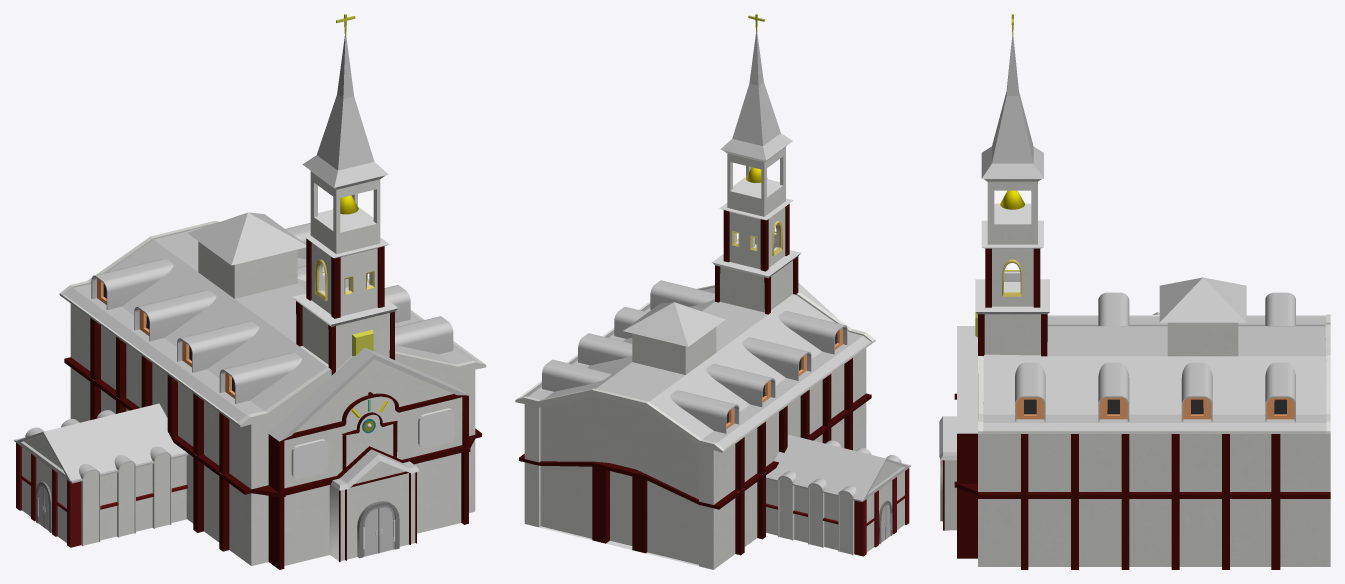
The picture shows the model from 3 angles, left to right: view 1: azimuth 30°, elevation 25°; view 2: azimuth 150°, elevation 25°; view 3: azimuth 270°, elevation 25°; orthographic projection. The views are drawn at different scales.
Parts seen in each view (by area): view 1: 立方体, 立方体.005, 立方体.006, 立方体.067, 立方体.001, 立方体.002, 立方体.004; view 2: 立方体, 立方体.005, 立方体.006; view 3: 立方体.
Part boxes in pixels (<box>): 立方体: <box>59,14,486,569</box>; 立方体.005: <box>14,403,188,547</box>; 立方体.006: <box>25,410,171,546</box>; 立方体.067: <box>291,408,454,479</box>; 立方体.001: <box>379,505,395,553</box>; 立方体.002: <box>357,501,399,558</box>; 立方体.004: <box>363,506,378,556</box>; 立方体: <box>515,14,875,569</box>; 立方体.005: <box>766,434,910,556</box>; 立方体.006: <box>778,440,901,555</box>; 立方体: <box>939,14,1330,569</box>.
Size of the model in its own units: 5761 by 8025 by 5697.
